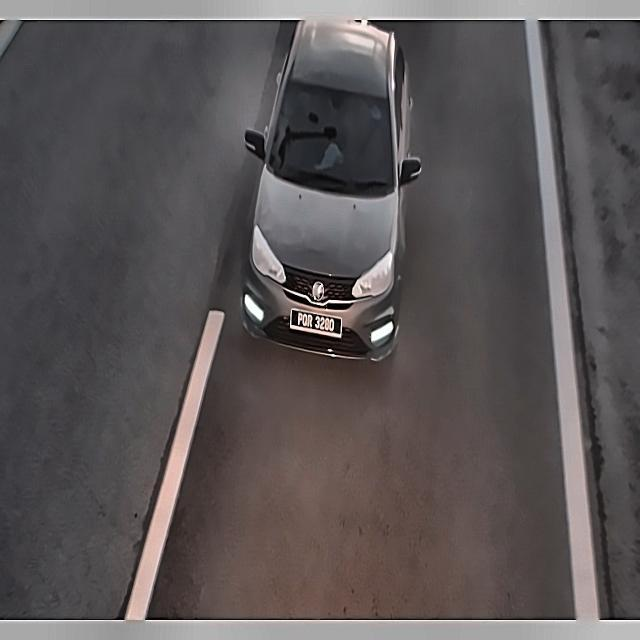car: (292, 299, 341, 337)
